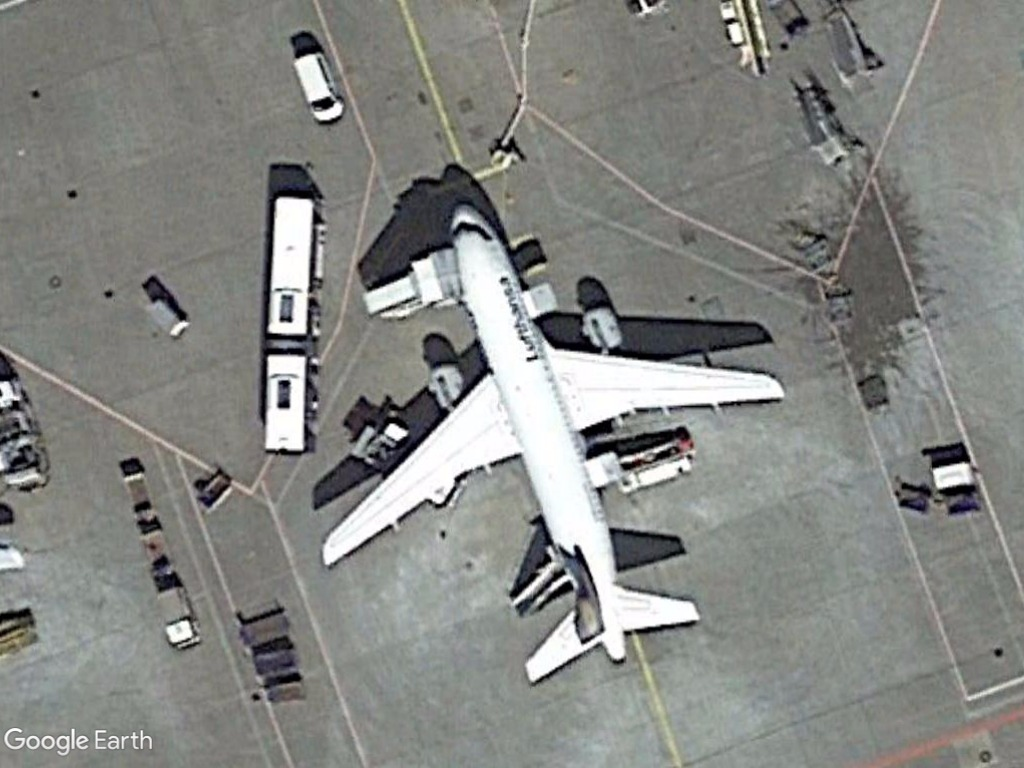airliner: (306, 194, 793, 681)
bus: (256, 186, 327, 349), (260, 347, 318, 459)
van: (285, 40, 369, 128)
